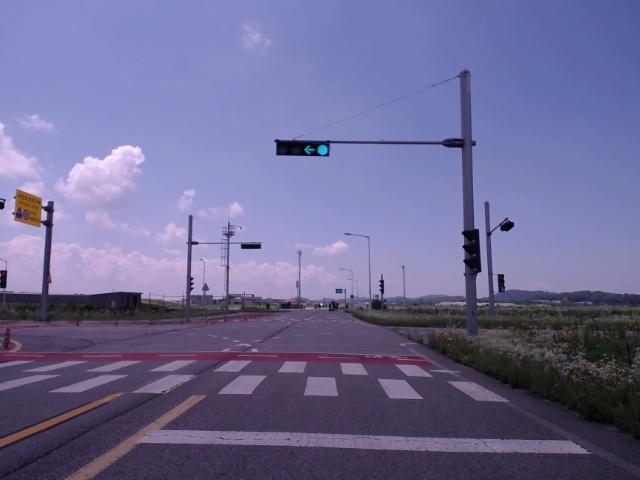all_green_4: (273, 138, 334, 156)
